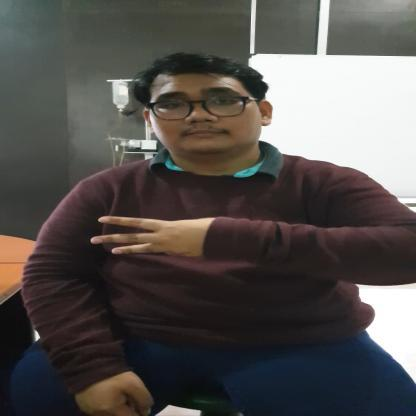E: (88, 214, 214, 258)
